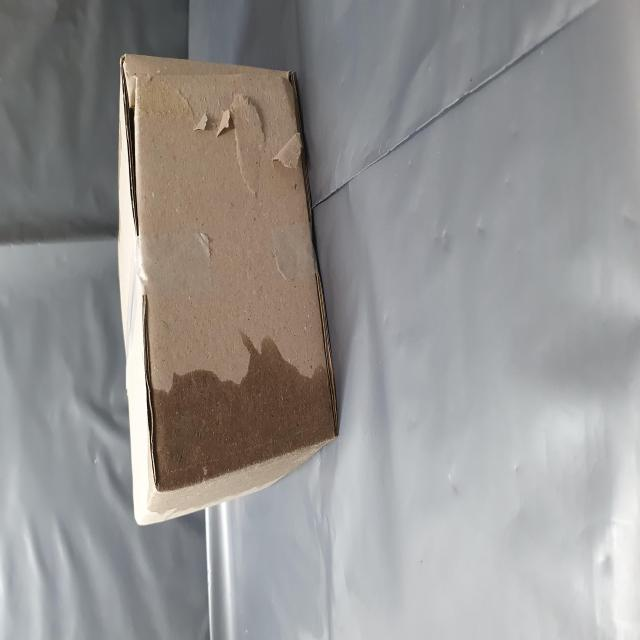wet: (64, 242, 179, 606)
